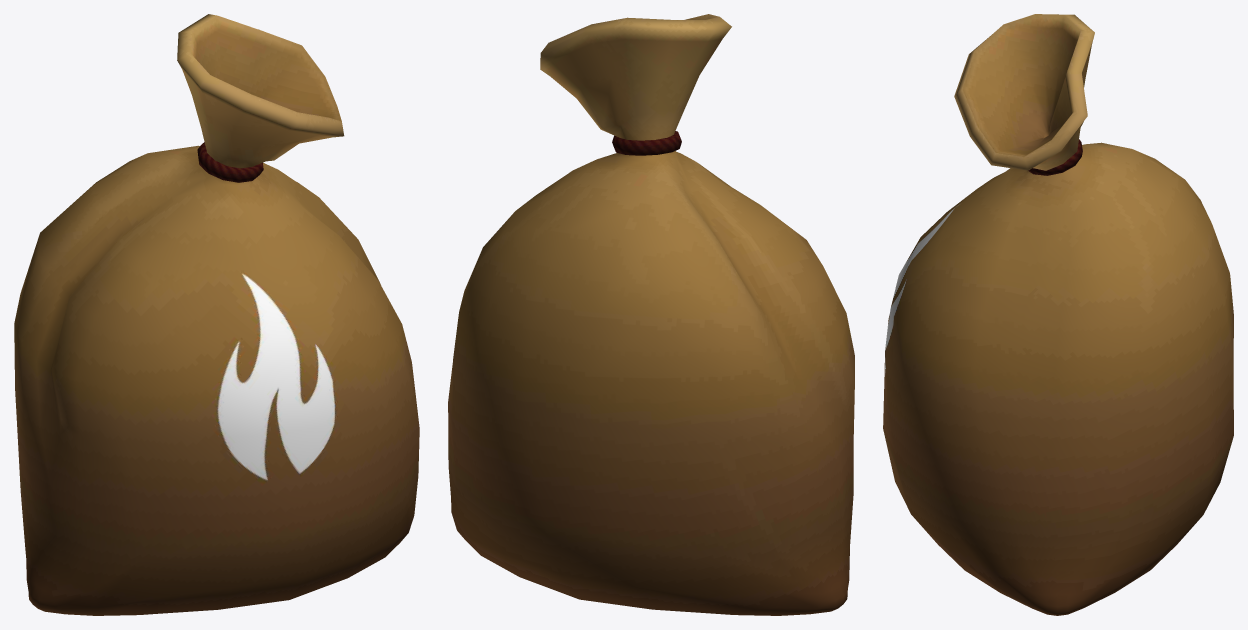
File: moneybag_4.gltf
The picture shows the model from 3 angles, left to right: view 1: azimuth 30°, elevation 25°; view 2: azimuth 150°, elevation 25°; view 3: azimuth 270°, elevation 25°; orthographic projection. The views are drawn at different scales.
Parts seen in each view (by area): view 1: MoneyBag; view 2: MoneyBag; view 3: MoneyBag.
Boxes of the visible parts, x1,y1,x2,y2 form: MoneyBag: (14, 14, 419, 615); MoneyBag: (448, 14, 854, 615); MoneyBag: (883, 14, 1233, 615).
Bounding box in the file's own units: 0.4525 × 0.6279 × 0.3909.
1 material, 1 textured.
